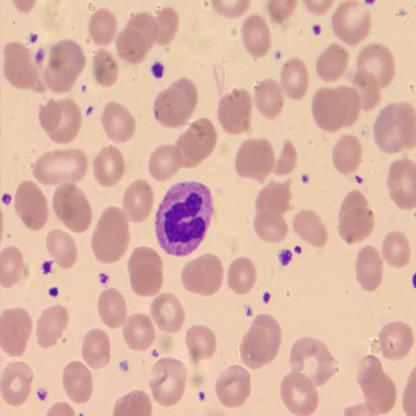Band Neutrophil: (153, 178, 215, 260)
